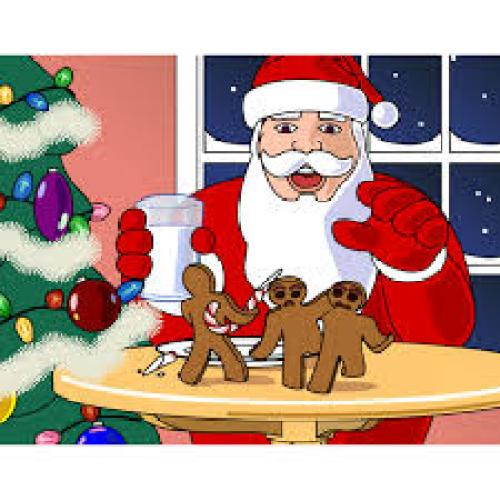Santa: (114, 54, 472, 346)
